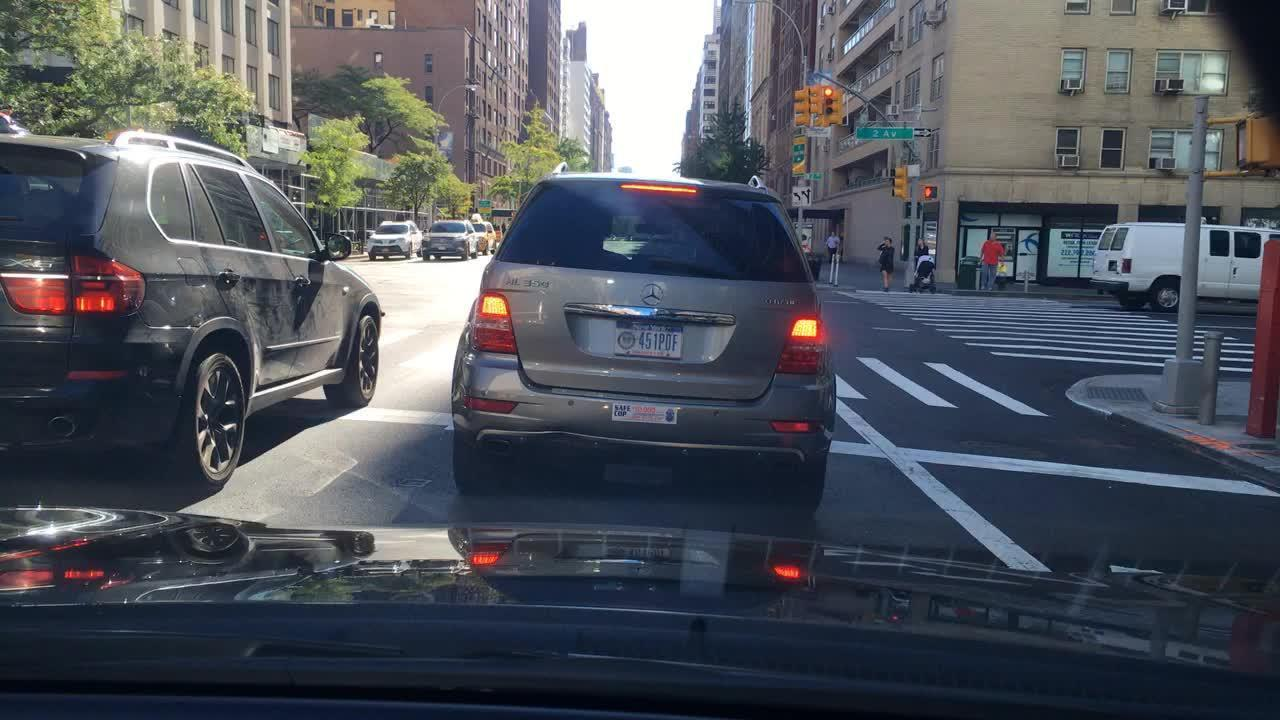Mercedes: (638, 279, 666, 307)
